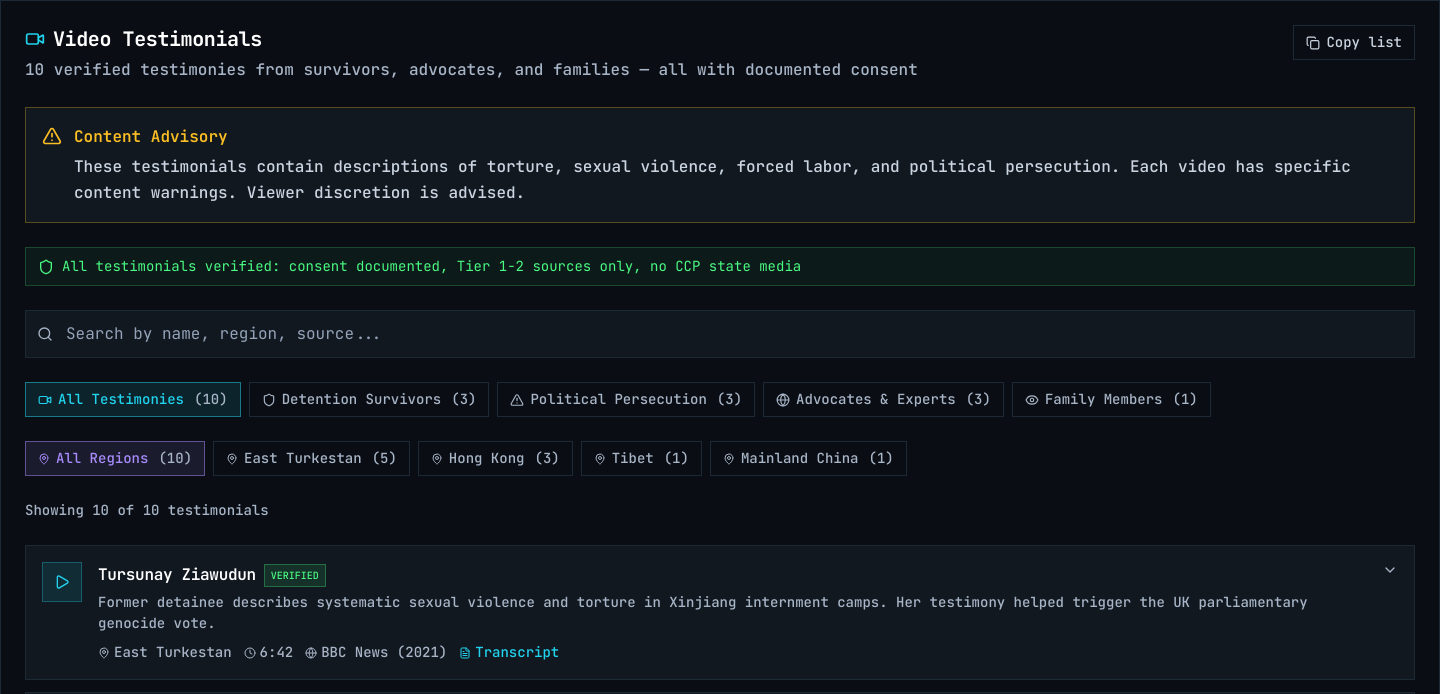
Scenario: VideoTestimonials › filters by Political Persecution category
Click the button "Political Persecution (3)" at (626, 400), box [498,382,755,417]
(page scrolled)
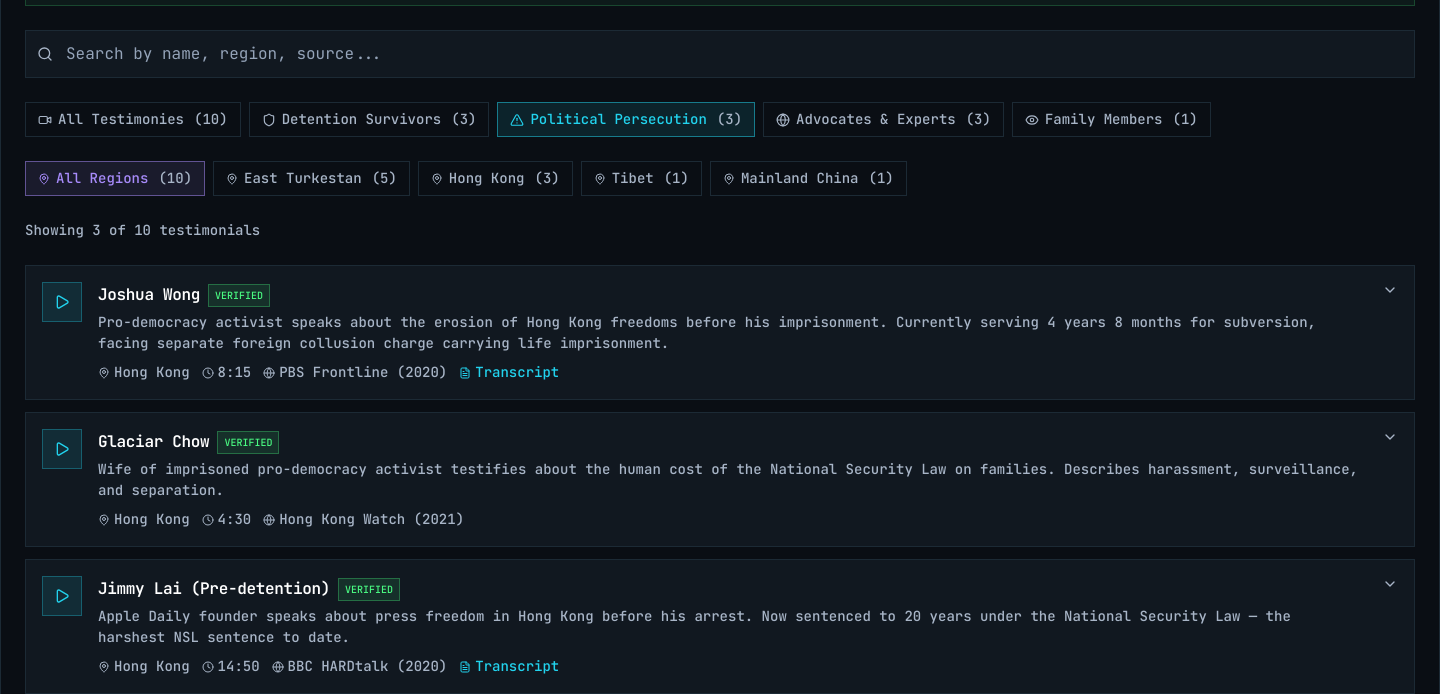
Expected: the heading "Joshua Wong" is shown, [98,282,200,308]
Expected: the button "Tursunay Ziawudun" is gone
